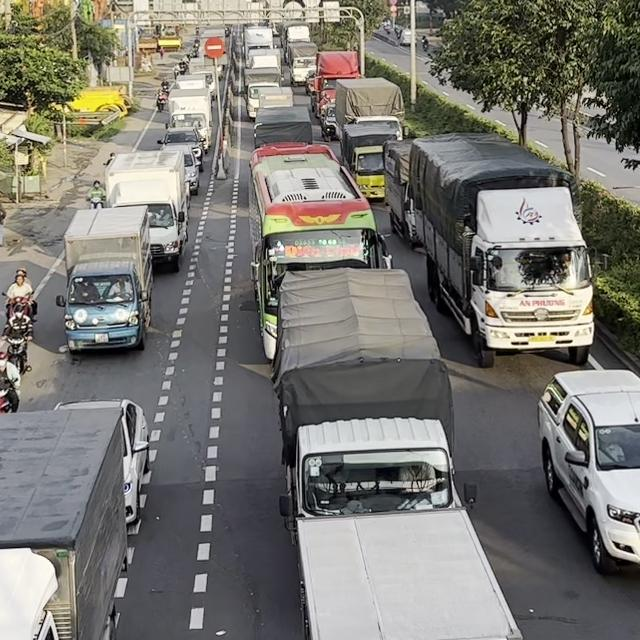bus: (247, 141, 393, 361)
car: (536, 368, 639, 575), (52, 397, 152, 527), (156, 127, 204, 171)
motorcycle: (0, 372, 19, 414)
truck: (271, 267, 479, 517), (403, 130, 599, 368), (0, 397, 151, 639), (55, 204, 154, 354), (101, 149, 190, 271), (338, 115, 403, 201), (334, 76, 407, 140), (382, 138, 419, 249), (306, 50, 360, 119), (164, 86, 213, 153), (252, 106, 313, 148)
